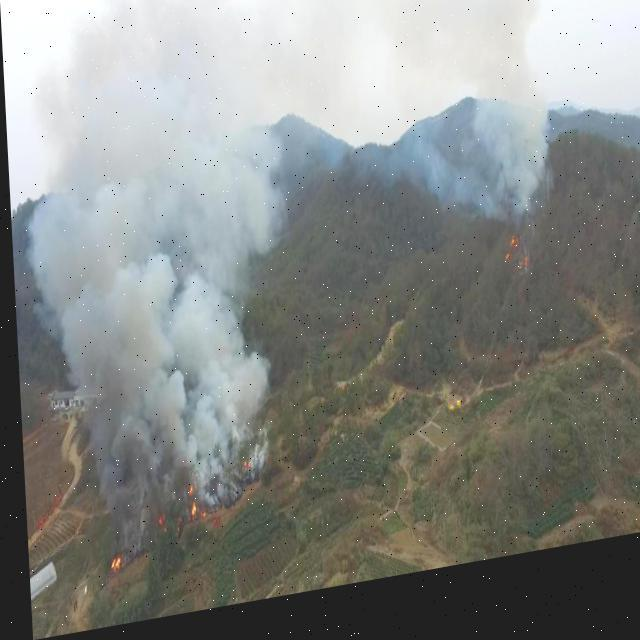Fire: (77, 358, 287, 592), (480, 210, 544, 323)
